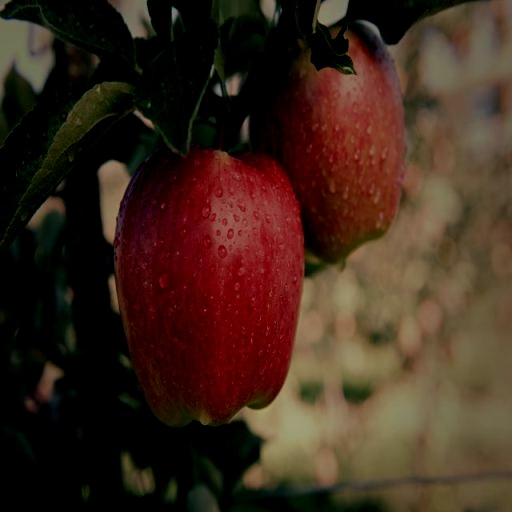fruit: (115, 147, 303, 427), (252, 28, 404, 262)
